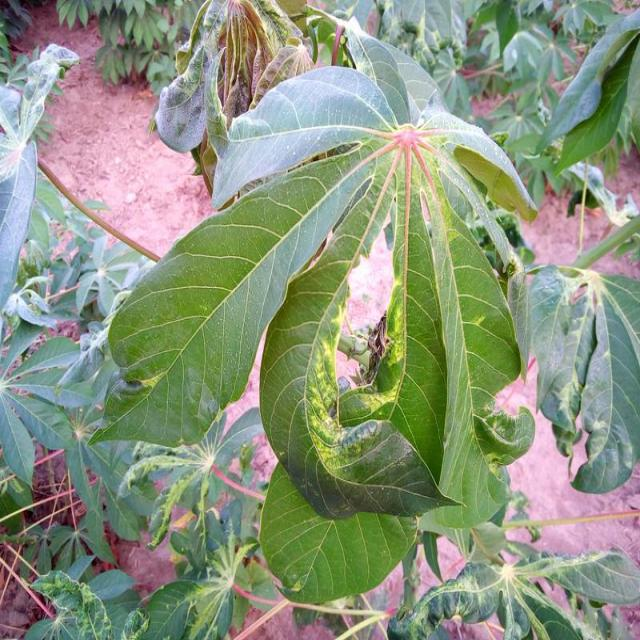cassava leaf: (95, 26, 538, 533)
